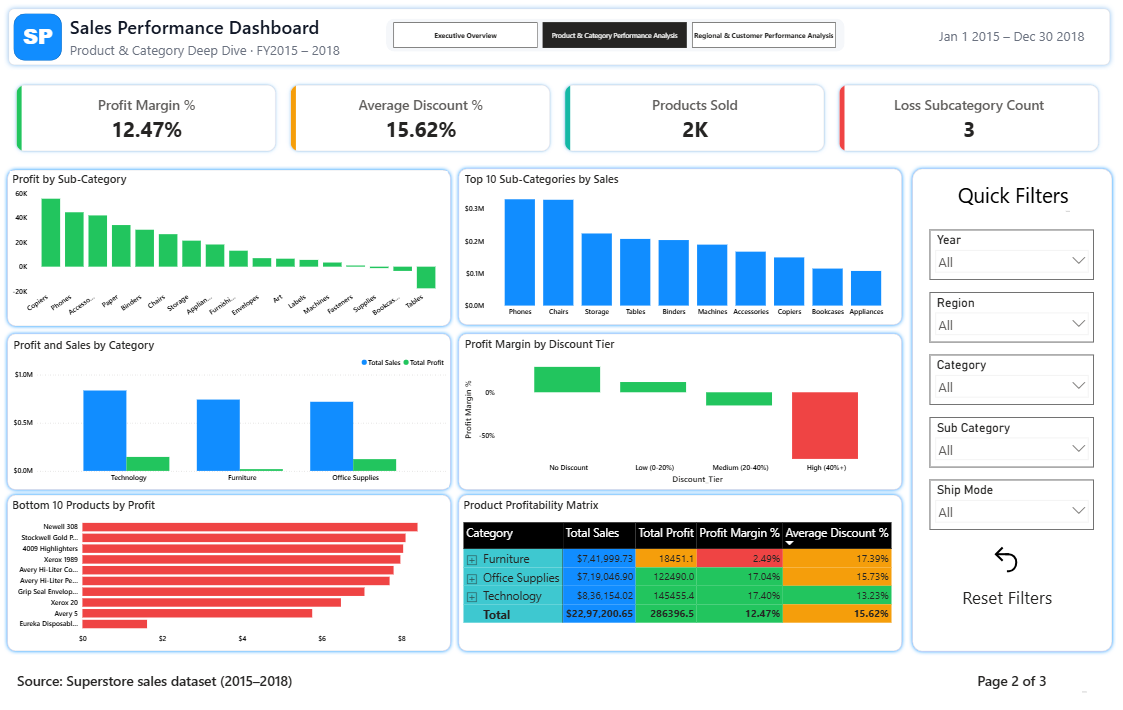

This screenshot's page, from the dashboard's own definition file:
{"tool":"powerbi","page":{"name":"Product & Category Performance Analysis","canvas":[2200,1400],"ordinal":1},"visuals":[{"type":"shape","box":[15.6,15.6,2168.9,130],"z":0},{"type":"shape","box":[33.7,33.7,94.4,92.2],"z":1000},{"type":"textbox","title":"SP","box":[33.7,49.5,94.4,60.7],"z":2000},{"type":"textbox","title":"Sales Performance Dashboard","box":[140,35,620,90],"z":3000},{"type":"textbox","title":"Jan 1 2015 – Dec 30 2018","box":[1822.5,61.2,320,31.2],"z":4000},{"type":"shape","box":[760,45,895,65],"z":5000},{"type":"shape","box":[1780,330,405,957.5],"z":9000},{"type":"textbox","title":"Quick Filters","box":[1867.5,360,232.5,65],"z":10000},{"type":"slicer","fields":{"Values":["Superstore_Cleaned.Order_Year"]},"box":[1822.5,455,320,97.5],"z":11000},{"type":"cardVisual","fields":{"Data":["Superstore_Cleaned.Profit Margin %","Superstore_Cleaned.Average Discount %","Superstore_Cleaned.Products Sold","Superstore_Cleaned.Loss Subcategory Count"]},"box":[11.2,146.2,2167.7,184.4],"z":12000},{"type":"shape","box":[15.6,331.1,880,320],"z":13000},{"type":"actionButton","box":[1930,1067.5,82.5,62.5],"z":14000},{"type":"textbox","title":"Reset Filters","box":[1870,1150,205,50],"z":15000},{"type":"shape","box":[895,330,880,320],"z":16000},{"type":"shape","box":[15.7,966.9,880,320],"z":17000},{"type":"shape","box":[895,650,880,320],"z":18000},{"type":"shape","box":[15,650,880,320],"z":19000},{"type":"clusteredColumnChart","title":"Top 10 Sub-Categories by Sales","fields":{"Category":["Superstore_Cleaned.Sub-Category"],"Y":["Superstore_Cleaned.Total Sales"]},"box":[910.4,342,853.8,294.8],"z":20000},{"type":"clusteredColumnChart","title":"Profit Margin by Discount Tier","fields":{"Category":["Superstore_Cleaned.Discount_Tier"],"Y":["Superstore_Cleaned.Profit Margin %"]},"box":[910,662.5,850,295],"z":21000},{"type":"clusteredBarChart","title":"Bottom 10 Products by Profit","fields":{"Y":["Superstore_Cleaned.Total Sales"],"Category":["Superstore_Cleaned.Product Name"]},"box":[27.8,978.9,855.6,295.6],"z":22000},{"type":"shape","box":[895,966.7,880,320],"z":23000},{"type":"pivotTable","title":"Product Profitability Matrix","fields":{"Values":["Superstore_Cleaned.Total Sales","Superstore_Cleaned.Total Profit","Superstore_Cleaned.Profit Margin %","Superstore_Cleaned.Average Discount %"],"Rows":["Superstore_Cleaned.Category","Superstore_Cleaned.Sub-Category"]},"box":[908.3,979.2,853.3,295.8],"z":24000},{"type":"slicer","fields":{"Values":["Superstore_Cleaned.Region"]},"box":[1822.5,577.5,320,97.5],"z":25000},{"type":"slicer","fields":{"Values":["Superstore_Cleaned.Category"]},"box":[1822.5,700,320,97.5],"z":26000},{"type":"slicer","fields":{"Values":["Superstore_Cleaned.Sub-Category"]},"box":[1822.5,822.5,320,97.5],"z":27000},{"type":"slicer","fields":{"Values":["Superstore_Cleaned.Ship Mode"]},"box":[1822.5,945,320,97.5],"z":28000},{"type":"clusteredColumnChart","title":"Profit by Sub-Category","fields":{"Y":["Superstore_Cleaned.Total Profit"],"Category":["Superstore_Cleaned.Sub-Category"]},"box":[27.8,342.2,854.4,295.6],"z":29000},{"type":"clusteredColumnChart","title":"Profit and Sales by Category","fields":{"Y":["Superstore_Cleaned.Total Sales","Superstore_Cleaned.Total Profit"],"Category":["Superstore_Cleaned.Category"]},"box":[28.2,665.5,854.5,292.7],"z":30000},{"type":"textbox","title":"Source: Superstore sales dataset (2015–2018)","box":[11,1318,595,42.5],"z":31000},{"type":"textbox","title":"Page 2 of 3","box":[1832,1318,301,47],"z":32000},{"type":"pageNavigator","box":[775,51,864,50],"z":32001}]}

Visuals, with their boxes in screenshot pixels (x1, y1, x2, y2), scaled from the page's 2200x1400 canvas onto the 1123x710 screenshot:
shape: x1=8 y1=8 x2=1115 y2=74
shape: x1=17 y1=17 x2=65 y2=64
"SP" textbox: x1=17 y1=25 x2=65 y2=56
"Sales Performance Dashboard" textbox: x1=71 y1=18 x2=388 y2=63
"Jan 1 2015 – Dec 30 2018" textbox: x1=930 y1=31 x2=1094 y2=47
shape: x1=388 y1=23 x2=845 y2=56
shape: x1=909 y1=167 x2=1115 y2=653
"Quick Filters" textbox: x1=953 y1=183 x2=1072 y2=216
slicer - Superstore_Cleaned.Order_Year: x1=930 y1=231 x2=1094 y2=280
cardVisual - Superstore_Cleaned.Profit Margin % x Superstore_Cleaned.Average Discount %: x1=6 y1=74 x2=1112 y2=168
shape: x1=8 y1=168 x2=457 y2=330
actionButton: x1=985 y1=541 x2=1027 y2=573
"Reset Filters" textbox: x1=955 y1=583 x2=1059 y2=609
shape: x1=457 y1=167 x2=906 y2=330
shape: x1=8 y1=490 x2=457 y2=653
shape: x1=457 y1=330 x2=906 y2=492
shape: x1=8 y1=330 x2=457 y2=492
"Top 10 Sub-Categories by Sales" clusteredColumnChart: x1=465 y1=173 x2=901 y2=323
"Profit Margin by Discount Tier" clusteredColumnChart: x1=465 y1=336 x2=898 y2=486
"Bottom 10 Products by Profit" clusteredBarChart: x1=14 y1=496 x2=451 y2=646
shape: x1=457 y1=490 x2=906 y2=653
"Product Profitability Matrix" pivotTable: x1=464 y1=497 x2=899 y2=647
slicer - Superstore_Cleaned.Region: x1=930 y1=293 x2=1094 y2=342
slicer - Superstore_Cleaned.Category: x1=930 y1=355 x2=1094 y2=404
slicer - Superstore_Cleaned.Sub-Category: x1=930 y1=417 x2=1094 y2=467
slicer - Superstore_Cleaned.Ship Mode: x1=930 y1=479 x2=1094 y2=529
"Profit by Sub-Category" clusteredColumnChart: x1=14 y1=174 x2=450 y2=323
"Profit and Sales by Category" clusteredColumnChart: x1=14 y1=338 x2=451 y2=486
"Source: Superstore sales dataset (2015–2018)" textbox: x1=6 y1=668 x2=309 y2=690
"Page 2 of 3" textbox: x1=935 y1=668 x2=1089 y2=692
pageNavigator: x1=396 y1=26 x2=837 y2=51
